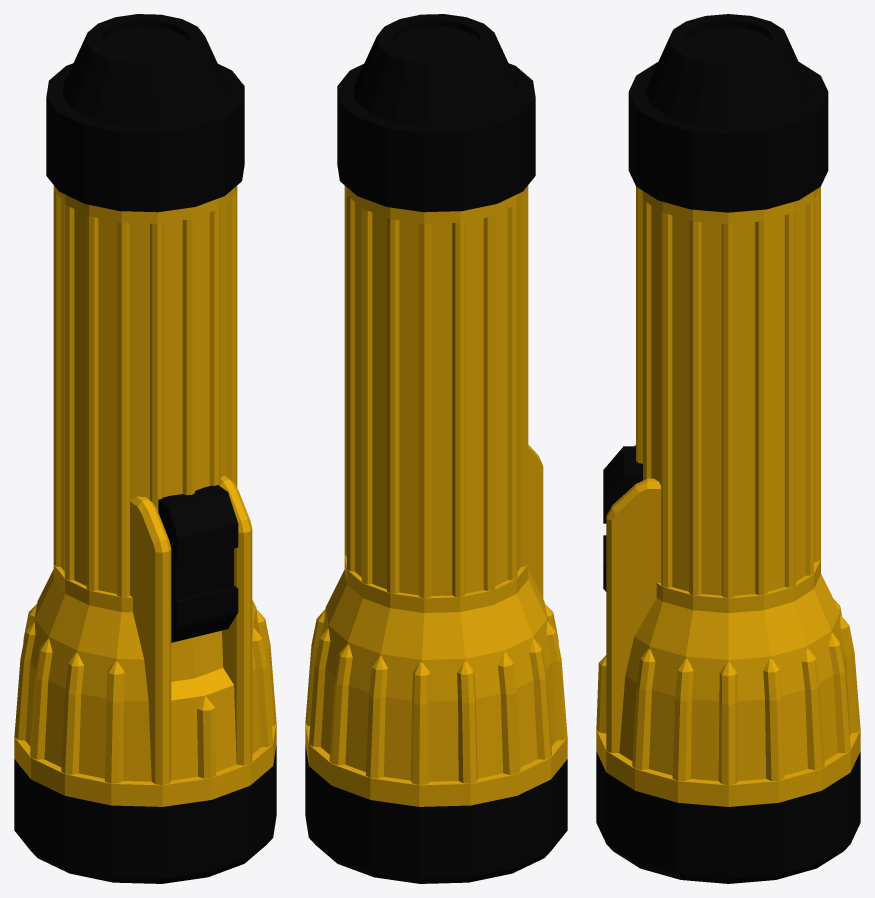
The model's file is sweethome3d-katorlegaz-flashlight.glb.
3 views of the same model, side by side, from view 1: azimuth 30°, elevation 25°; view 2: azimuth 150°, elevation 25°; view 3: azimuth 270°, elevation 25° (orthographic).
Visible parts, largest first — view 1: Flashlight_Flashlight_PLASTIC_orange, Flashlight_Flashlight_PLASTIC_black, flashlight_switch_flashlight_switch_PLASTIC_black; view 2: Flashlight_Flashlight_PLASTIC_orange, Flashlight_Flashlight_PLASTIC_black; view 3: Flashlight_Flashlight_PLASTIC_orange, Flashlight_Flashlight_PLASTIC_black, flashlight_switch_flashlight_switch_PLASTIC_black.
Boxes of the visible parts, x1,y1,x2,y2 form: Flashlight_Flashlight_PLASTIC_orange: [14, 185, 276, 806]; Flashlight_Flashlight_PLASTIC_black: [14, 14, 276, 883]; flashlight_switch_flashlight_switch_PLASTIC_black: [158, 485, 238, 642]; Flashlight_Flashlight_PLASTIC_orange: [305, 185, 567, 806]; Flashlight_Flashlight_PLASTIC_black: [305, 14, 567, 883]; Flashlight_Flashlight_PLASTIC_orange: [596, 186, 860, 806]; Flashlight_Flashlight_PLASTIC_black: [596, 14, 860, 883]; flashlight_switch_flashlight_switch_PLASTIC_black: [603, 446, 642, 591].
Size of the model in its own units: 0.3782 by 1.25 by 0.3782.
